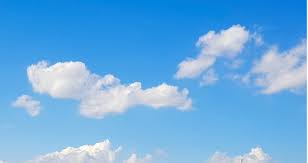sky: (2, 1, 305, 163)
